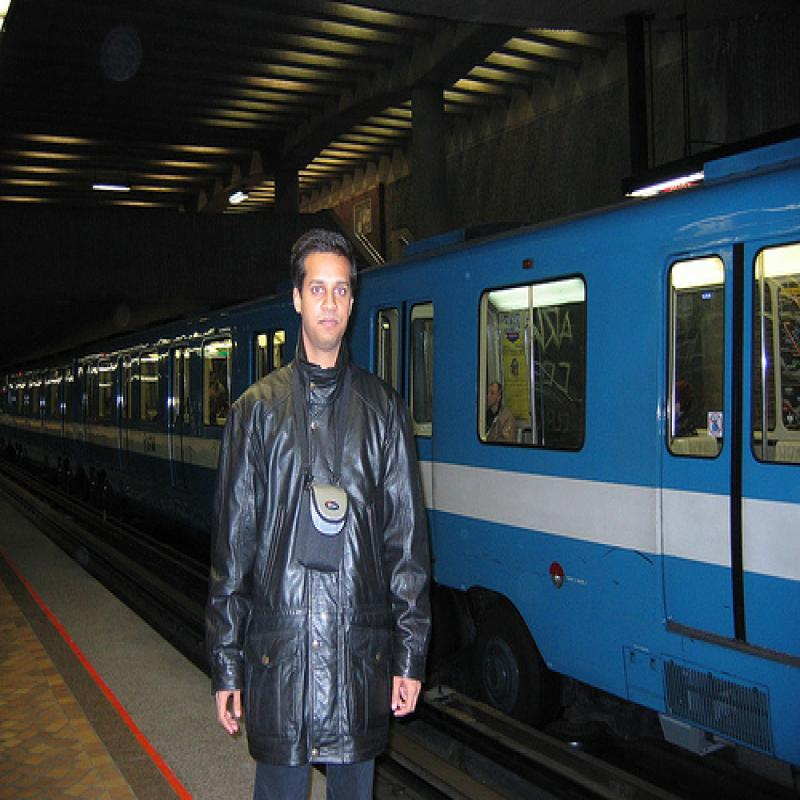train: (1, 135, 799, 798)
